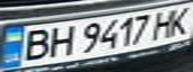1: (115, 15, 139, 47)
4: (100, 17, 121, 51)
7: (130, 11, 157, 44)
9: (75, 20, 103, 54)
B: (12, 26, 57, 62)
H: (42, 23, 78, 57), (148, 7, 181, 38)
K: (163, 3, 193, 36)
